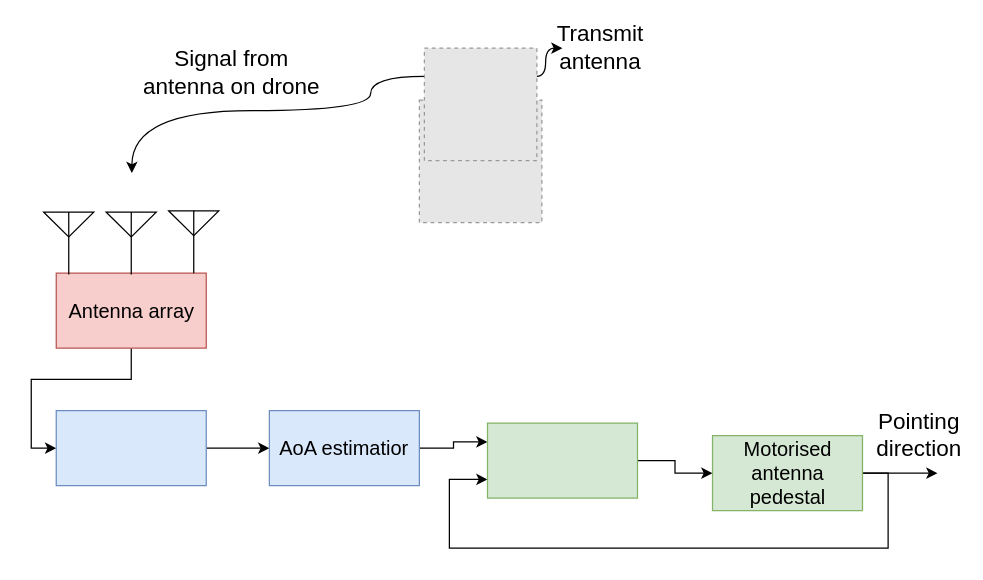
Some shapes in this 983 by 580 pixel diagram are drawn without their labels. Grey dashed boxes stand in for pictures. Each missing label, with the box of its shape:
Control system: (486, 422, 638, 498)
Sampling unit: (55, 409, 206, 486)
